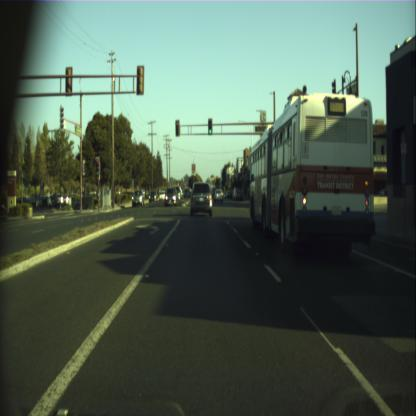Green: (207, 118, 212, 134)
RedLeft: (94, 156, 100, 173), (174, 120, 180, 136)
